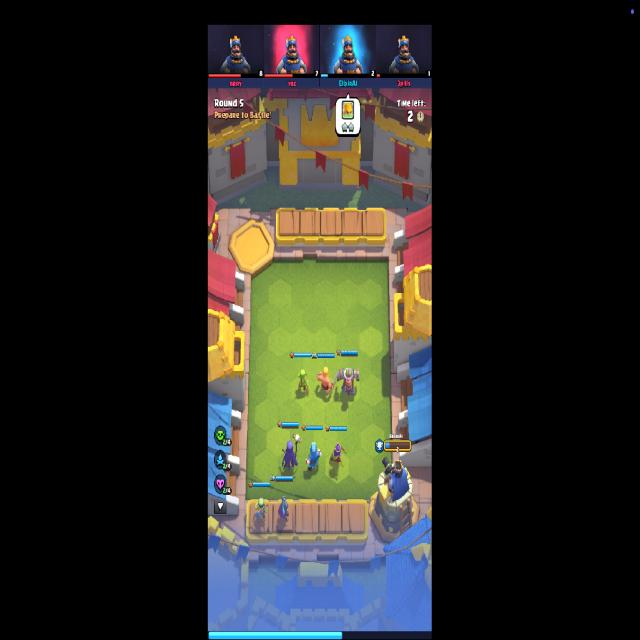archer_queen: (329, 443, 347, 473)
barbarian: (317, 366, 338, 396)
goblin: (298, 369, 310, 395)
goblin_machine: (337, 368, 359, 396)
musketeer: (277, 497, 290, 522)
spear_goblin: (254, 498, 269, 524)
witch: (282, 433, 302, 471)
wizard: (305, 442, 322, 472)
